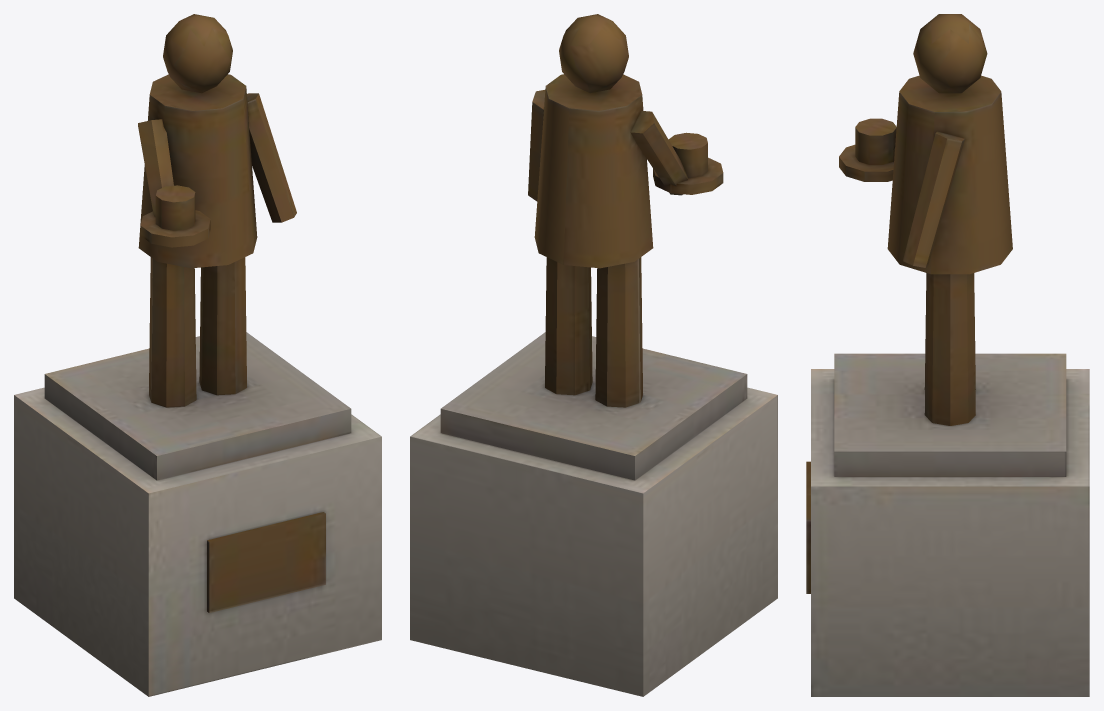
File: estatua_bronce.glb
The picture shows the model from 3 angles, left to right: view 1: azimuth 30°, elevation 25°; view 2: azimuth 150°, elevation 25°; view 3: azimuth 270°, elevation 25°; orthographic projection. The views are drawn at different scales.
Visible parts, largest first — view 1: estatua_bronce; view 2: estatua_bronce; view 3: estatua_bronce.
Part boxes in pixels (x1=…): estatua_bronce: x1=14, y1=14, x2=381, y2=696; estatua_bronce: x1=410, y1=14, x2=777, y2=696; estatua_bronce: x1=806, y1=14, x2=1089, y2=696.
Bounding box in the file's own units: 1.2 × 2.96 × 1.22.
Materials: 1 (1 with a texture image).
